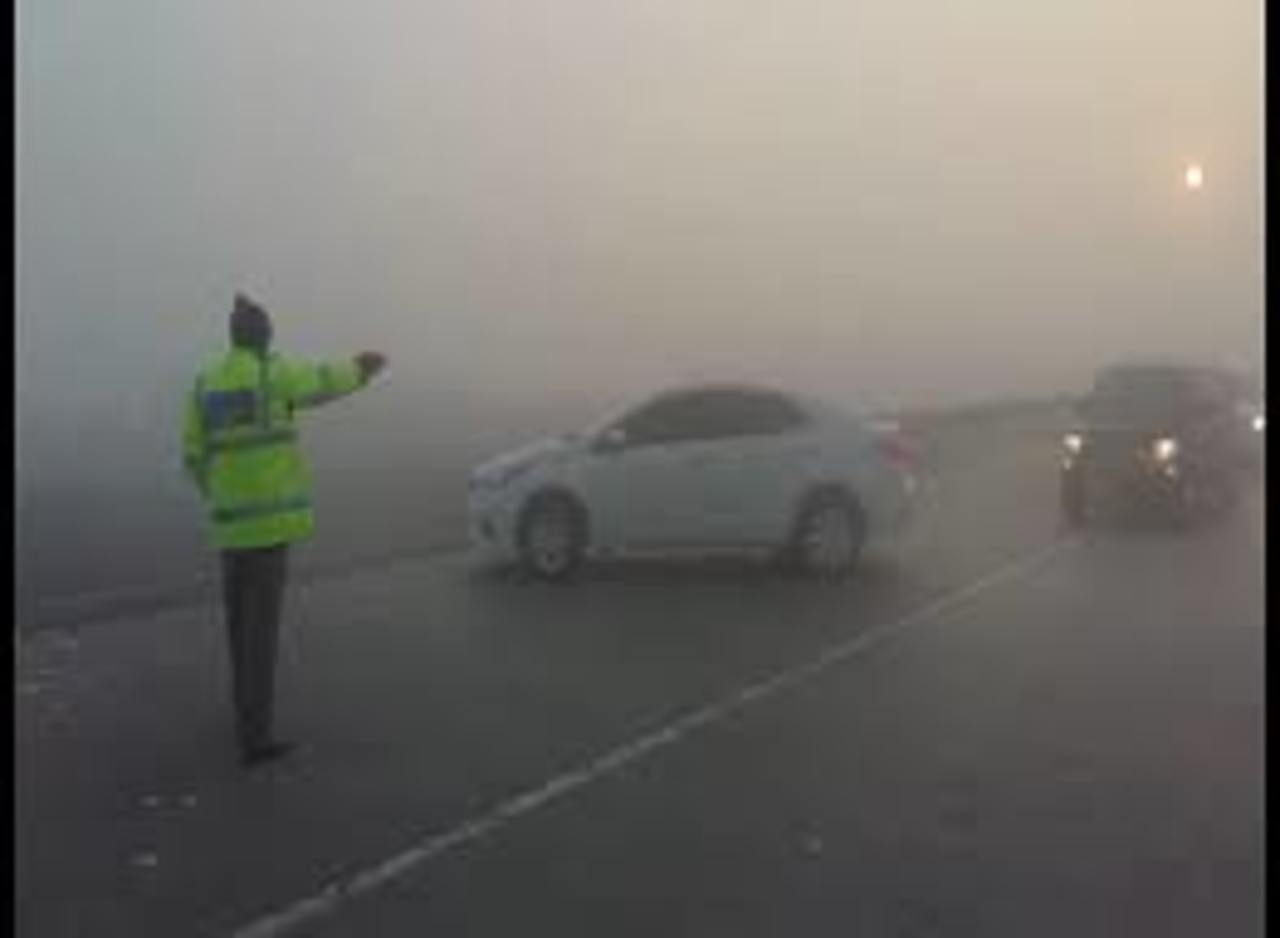car: (465, 379, 917, 582), (1059, 365, 1234, 527), (1229, 359, 1260, 472)
person: (181, 288, 393, 762)
